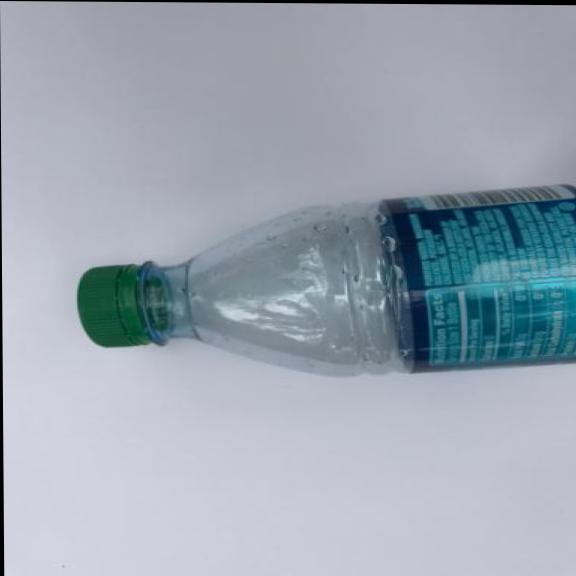Plastik: (65, 176, 576, 382)
